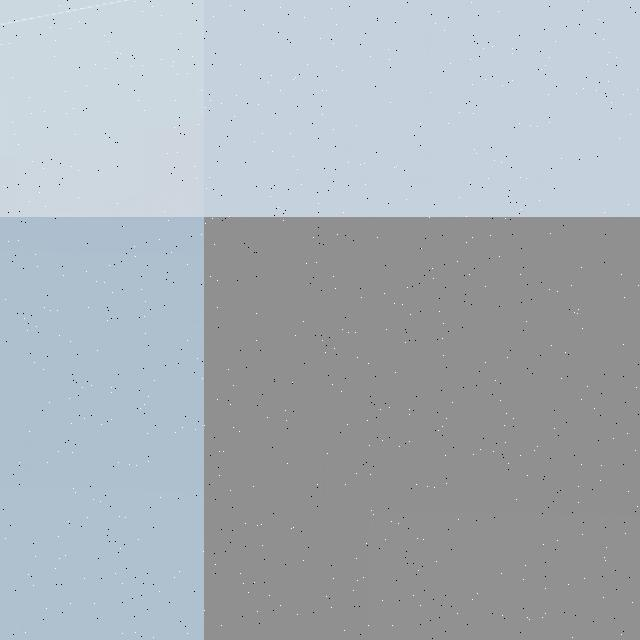drone: (0, 0, 204, 217)
